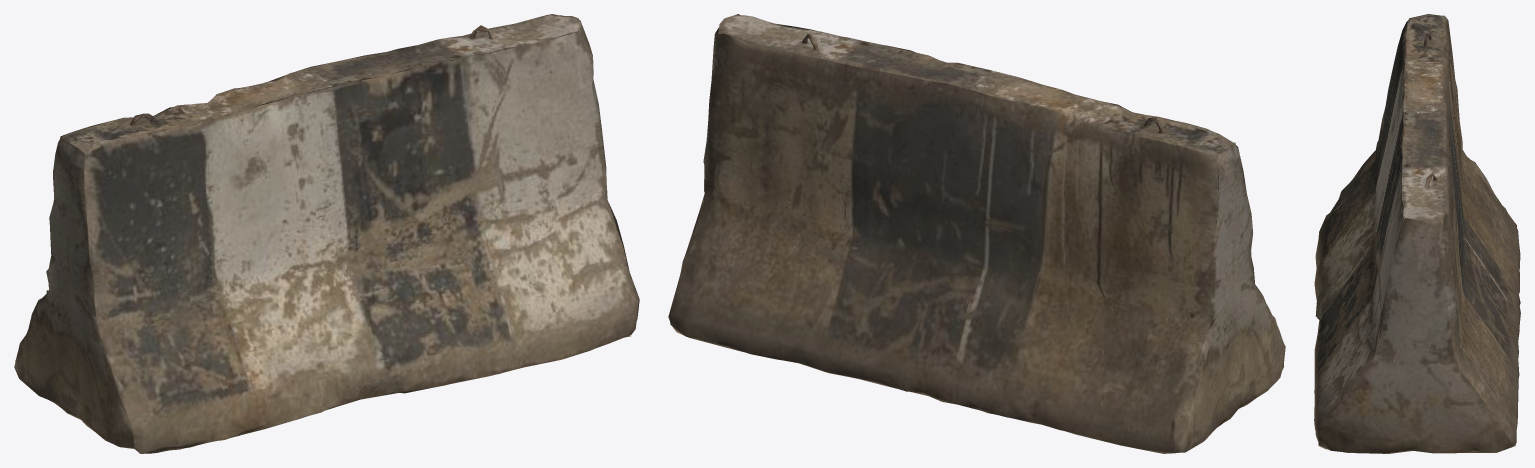
File: concrete_road_barrier.glb
3 views of the same model, side by side, from view 1: azimuth 30°, elevation 25°; view 2: azimuth 150°, elevation 25°; view 3: azimuth 270°, elevation 25° (orthographic). The views are drawn at different scales.
Visible parts, largest first — view 1: concrete_road_barrier; view 2: concrete_road_barrier; view 3: concrete_road_barrier.
Part boxes in pixels (box(x1,y1,x2,y2)): concrete_road_barrier: box(14, 14, 639, 453); concrete_road_barrier: box(668, 14, 1285, 453); concrete_road_barrier: box(1314, 14, 1520, 453).
Bounding box in the file's own units: 1.54 × 0.8347 × 0.6344.
Materials: 1 (1 with a texture image).
